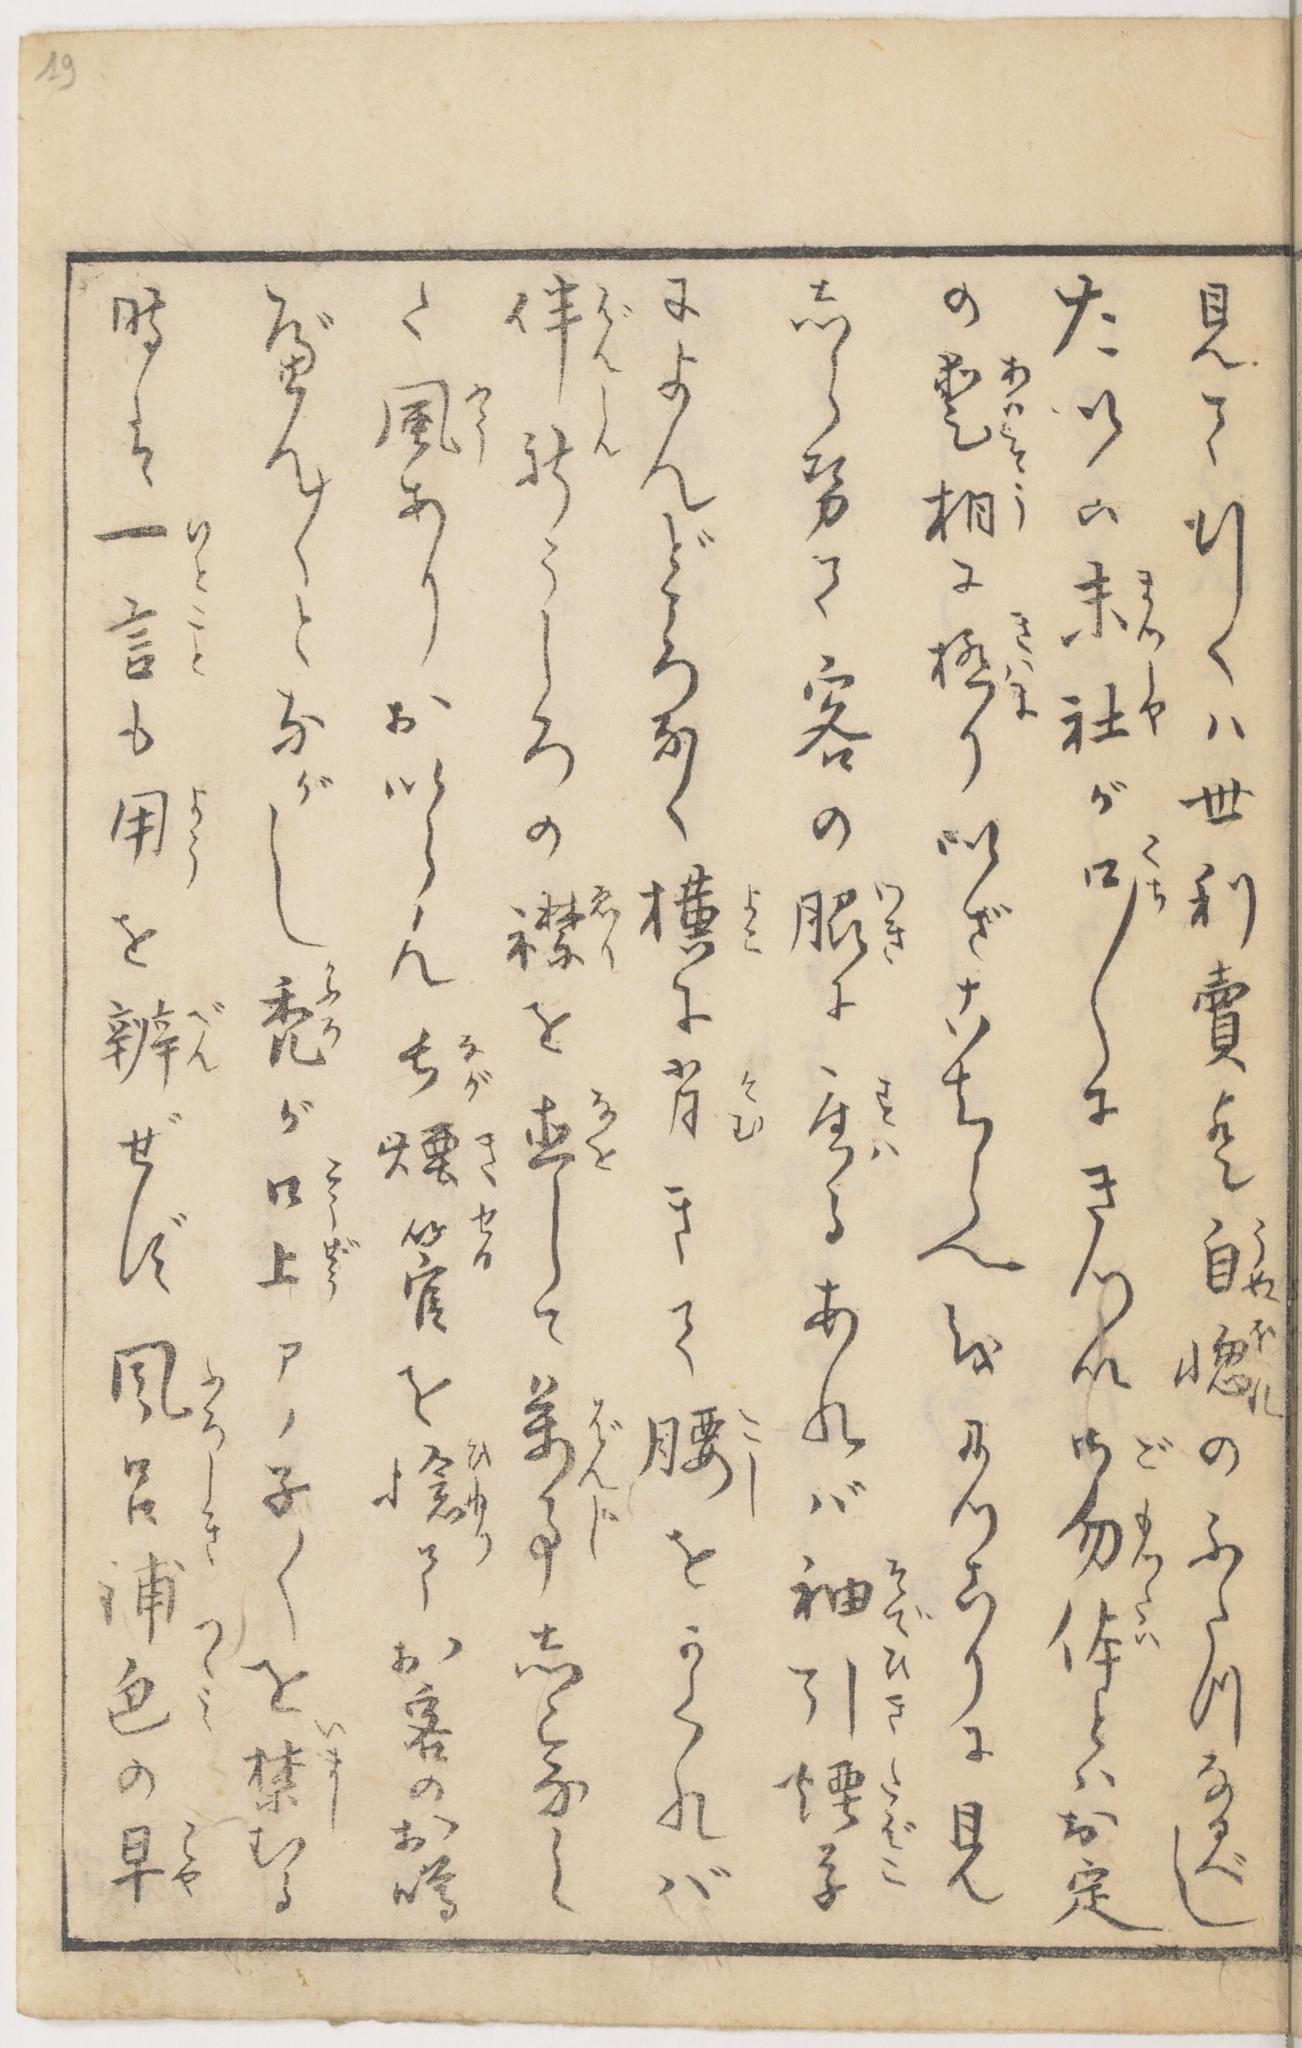MainZone-Character: (94, 982, 243, 1105), (372, 1433, 503, 1563), (642, 1397, 778, 1520), (791, 1054, 917, 1182), (227, 1717, 363, 1833), (88, 1551, 236, 1657), (918, 340, 1039, 467), (782, 1543, 939, 1638), (782, 1646, 932, 1742), (102, 1336, 236, 1442), (776, 1749, 923, 1846), (364, 370, 502, 473), (493, 879, 626, 985), (502, 273, 630, 379), (923, 608, 1045, 718), (1171, 1320, 1295, 1429), (787, 872, 920, 972), (97, 778, 218, 884), (508, 390, 626, 497), (1044, 1594, 1178, 1685), (524, 1375, 627, 1491), (641, 864, 772, 954), (97, 1812, 224, 1905), (258, 955, 355, 1076), (110, 1448, 233, 1543), (1048, 657, 1174, 749), (99, 1654, 227, 1743), (1051, 557, 1171, 652), (93, 509, 231, 591), (524, 1079, 632, 1181), (1056, 1488, 1166, 1587), (393, 1011, 502, 1109), (527, 1493, 629, 1597), (91, 594, 214, 681), (399, 1249, 506, 1346), (375, 1106, 503, 1187), (1194, 1208, 1289, 1312), (1075, 819, 1172, 918), (903, 470, 1039, 537), (802, 1839, 918, 1917), (258, 1223, 361, 1309), (1063, 1420, 1181, 1484), (258, 1154, 352, 1224), (394, 1193, 502, 1251)
MainZone-Ruby: (309, 1718, 360, 1829), (587, 270, 639, 376), (182, 1445, 236, 1545), (868, 1749, 921, 1849), (457, 1430, 497, 1563), (1239, 1209, 1289, 1314), (1244, 1317, 1292, 1424), (997, 352, 1039, 473), (1003, 608, 1047, 722), (885, 1548, 939, 1639), (876, 1643, 926, 1742), (868, 872, 918, 967), (575, 1079, 624, 1176), (575, 1388, 623, 1487), (732, 1399, 772, 1512), (862, 1072, 909, 1167), (182, 987, 230, 1076), (190, 1351, 234, 1445), (584, 390, 633, 473), (1129, 1488, 1171, 1587), (181, 1651, 225, 1738), (314, 1229, 364, 1303), (309, 957, 349, 1049), (1130, 560, 1171, 652), (178, 784, 215, 882), (452, 1025, 499, 1100), (458, 372, 493, 469), (1126, 1418, 1178, 1479), (172, 1818, 214, 1894), (1127, 1588, 1174, 1655), (588, 882, 621, 972), (184, 509, 218, 591), (178, 594, 209, 679), (1139, 831, 1172, 912), (736, 879, 767, 960), (579, 1496, 621, 1554), (1135, 658, 1168, 730), (320, 1152, 351, 1221), (187, 1606, 231, 1654), (475, 1117, 502, 1185), (466, 1196, 503, 1243), (1006, 475, 1032, 542), (467, 1243, 503, 1284), (873, 1854, 908, 1890)
